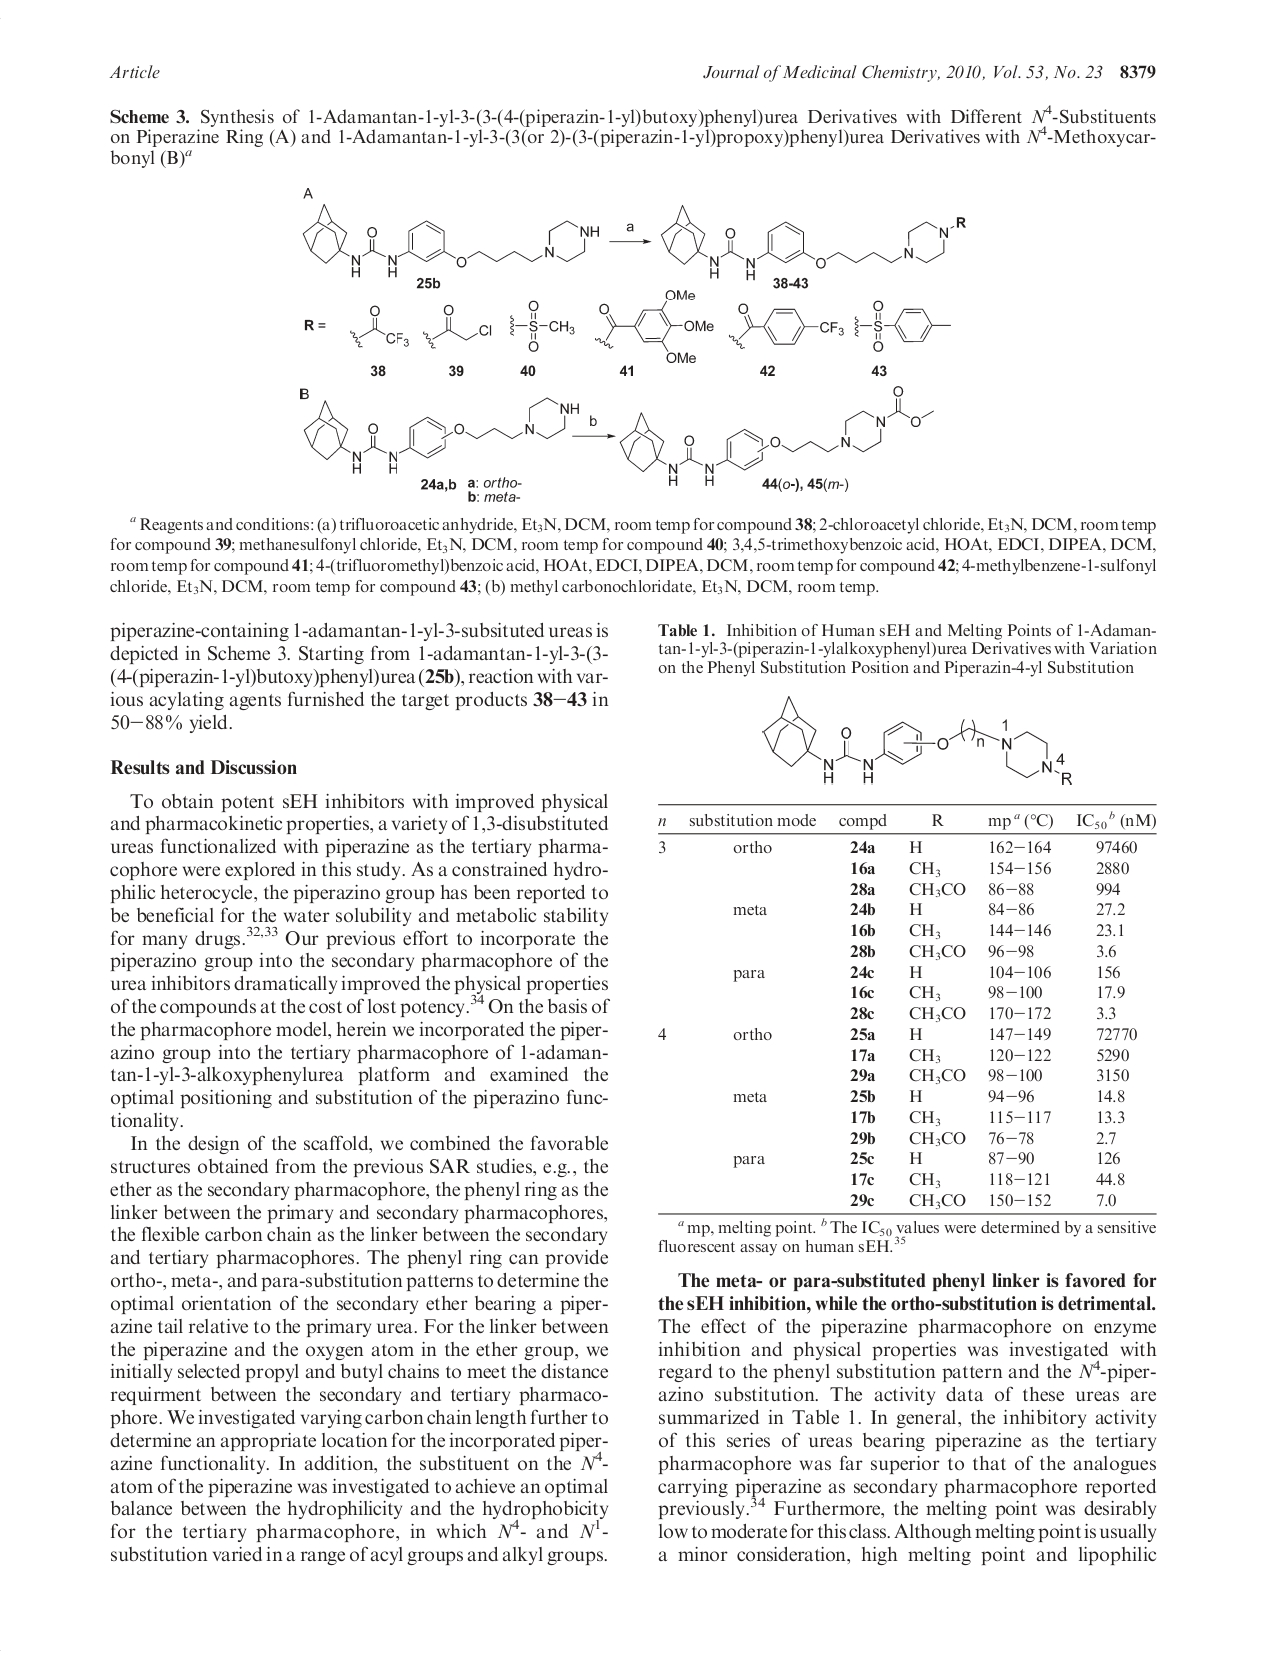exist_molecular: (618, 382, 938, 487), (761, 694, 1075, 789), (660, 203, 971, 282), (301, 199, 602, 278), (305, 394, 582, 477), (594, 286, 715, 366), (727, 302, 844, 350), (852, 299, 949, 355), (508, 298, 576, 355), (422, 305, 493, 352), (347, 302, 410, 350)
